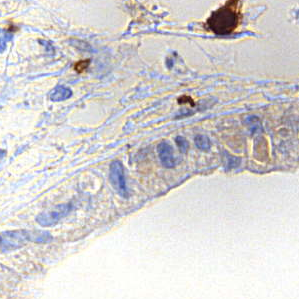Lymphocyte: (205, 1, 243, 36)
